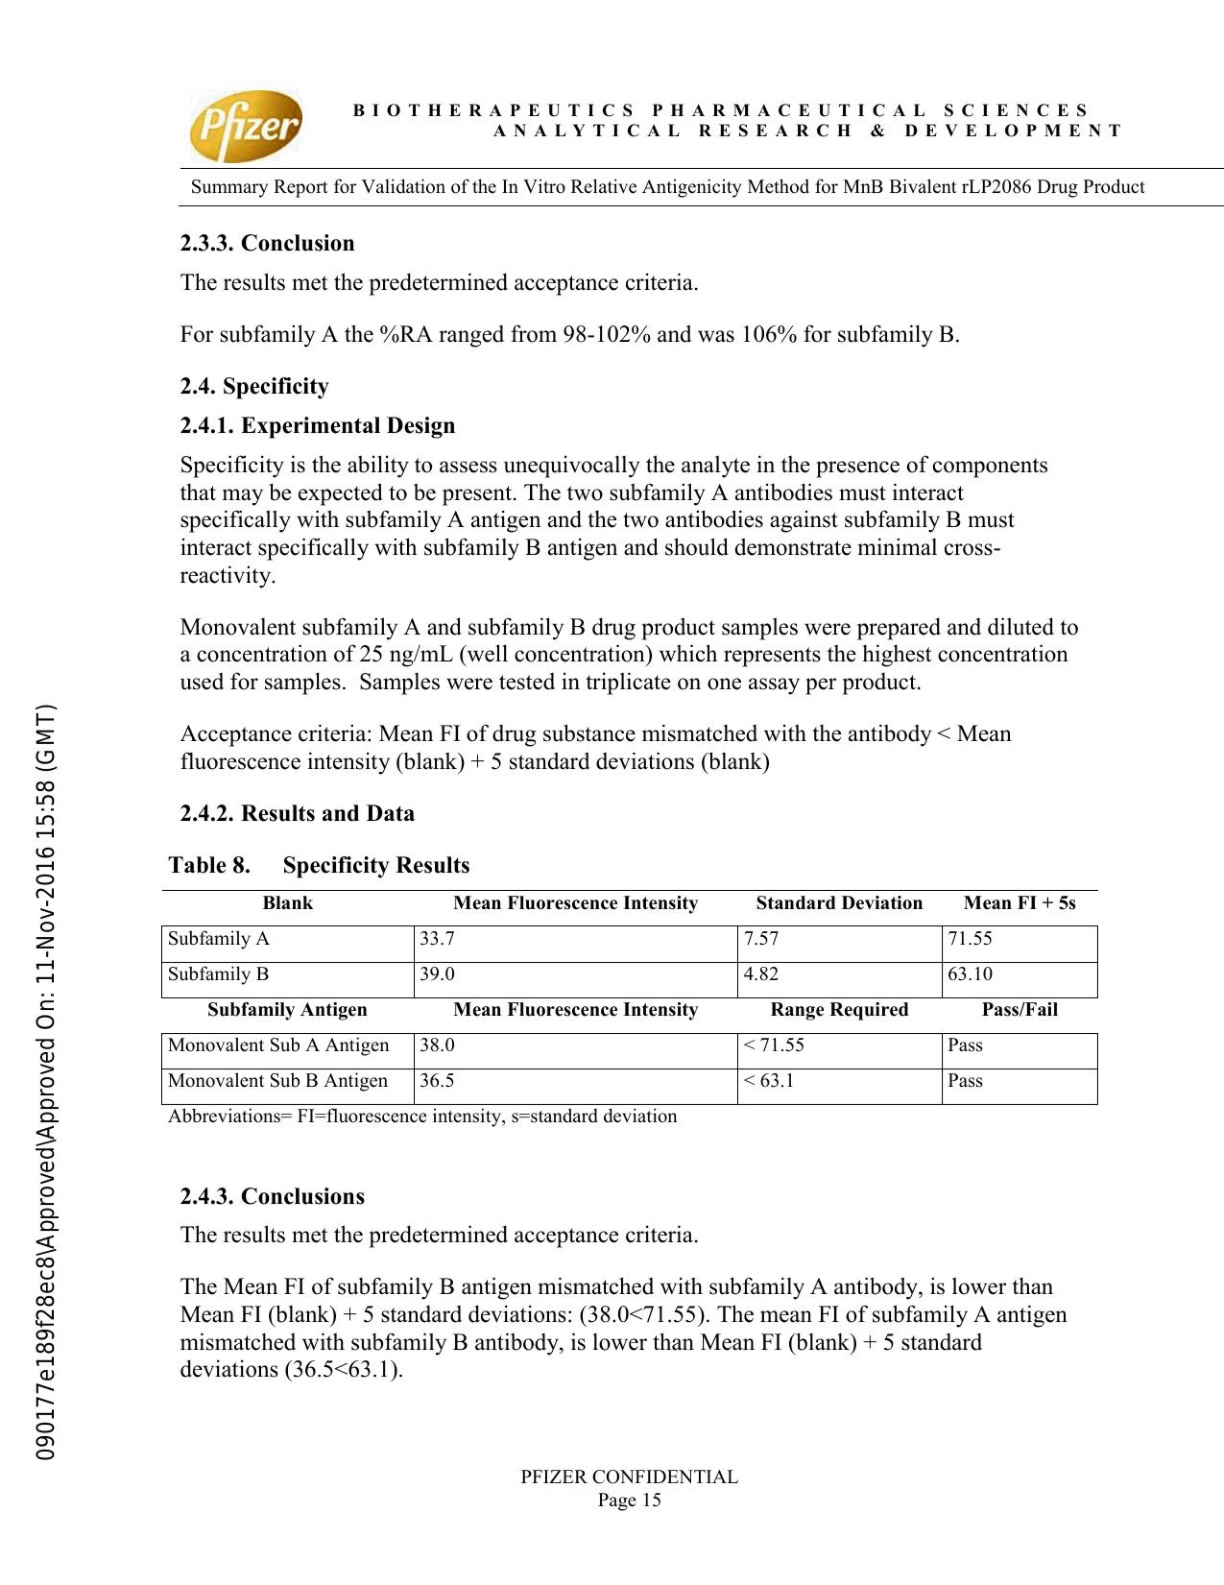partial_lined: (159, 888, 1101, 1107)
